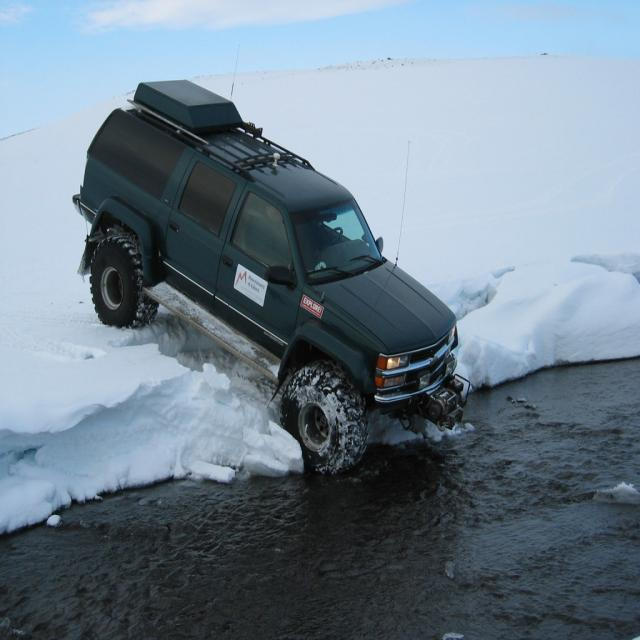car: (72, 44, 472, 484)
